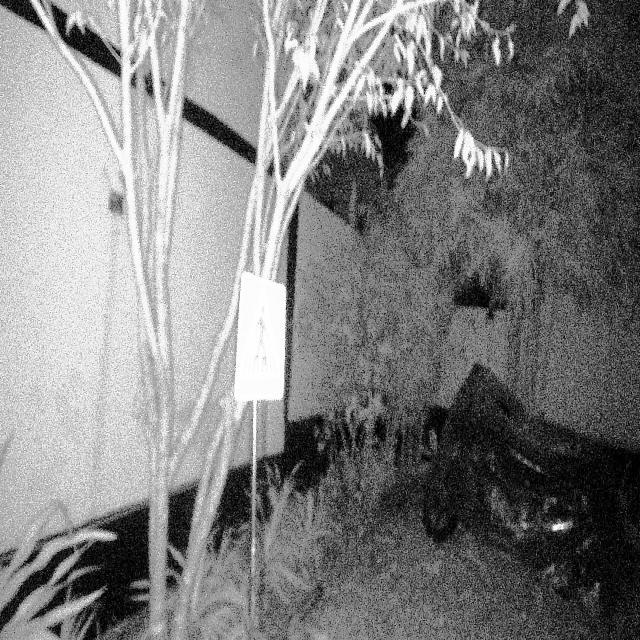Sign: (232, 269, 288, 403)
Tree: (44, 0, 198, 635)
